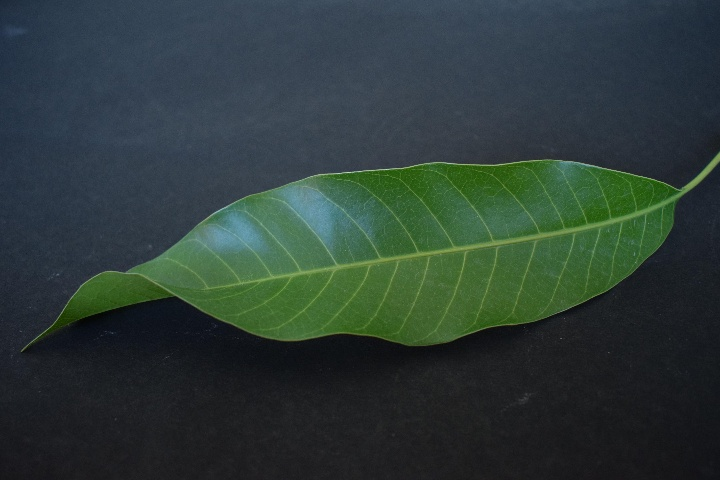healthy: (92, 157, 686, 352)
